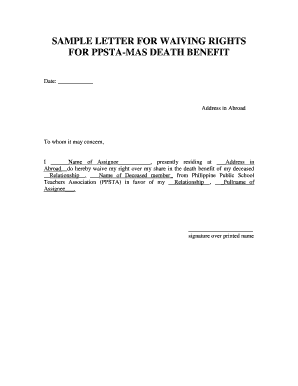textline: (185, 223, 255, 234), (57, 77, 96, 86)
